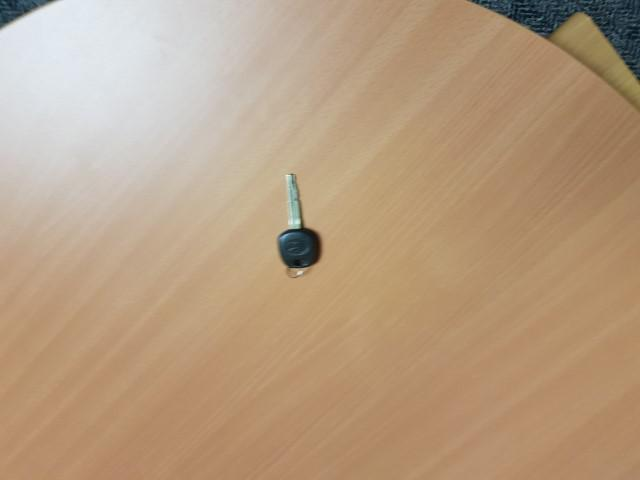key: (279, 173, 317, 269)
